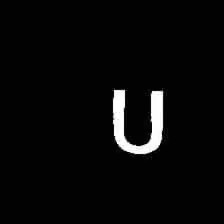LTR_U: (112, 82, 168, 159)
